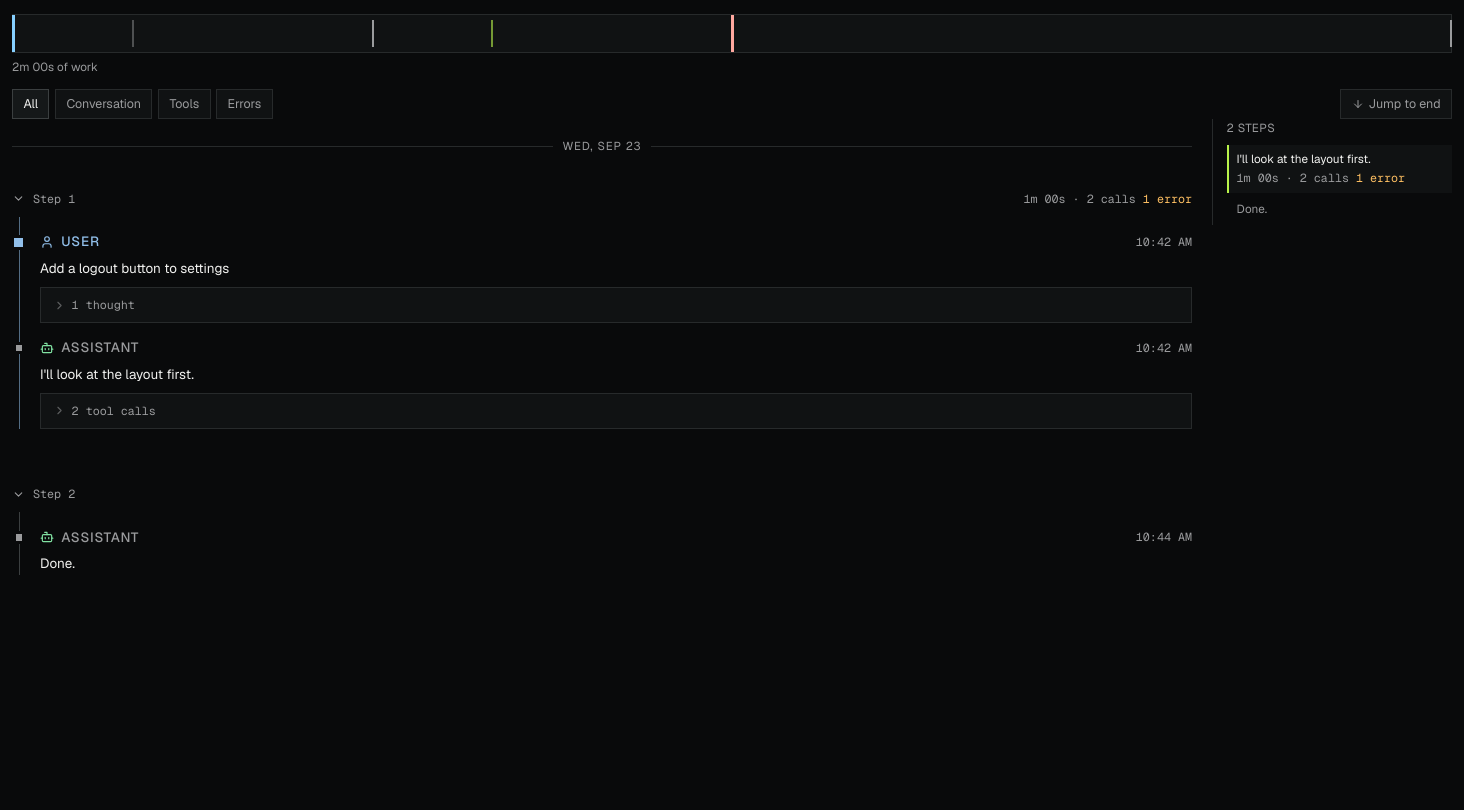
Test case: TranscriptView › conversation filter hides tool clusters
The image size is (1464, 810).
Step 1. Click the button "Conversation" → (104, 104), box [55,89,152,119]
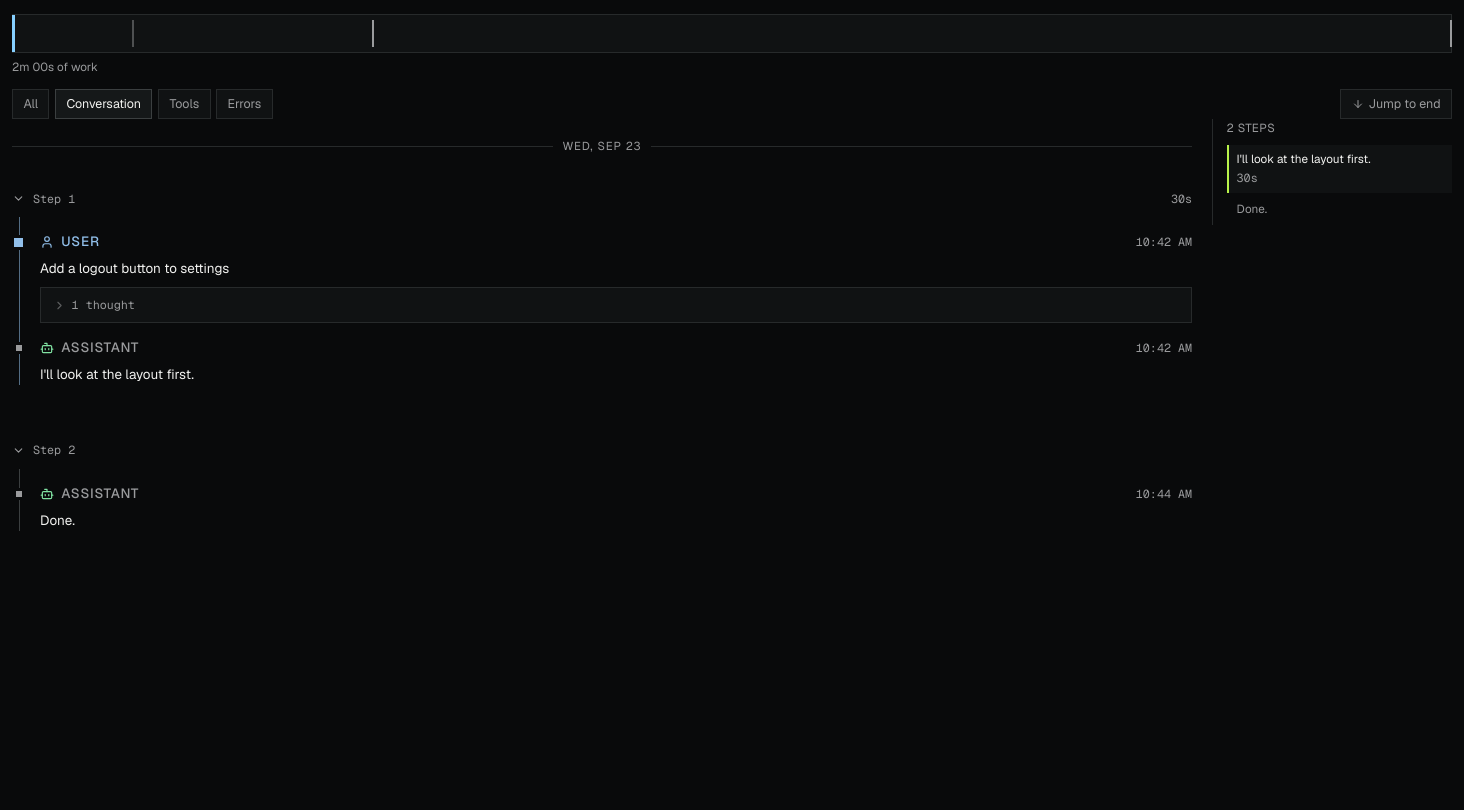
expect the text "Add a logout button to settings" is shown: met, box [40,259,229,277]
expect the button "2 tool calls" is gone: met
